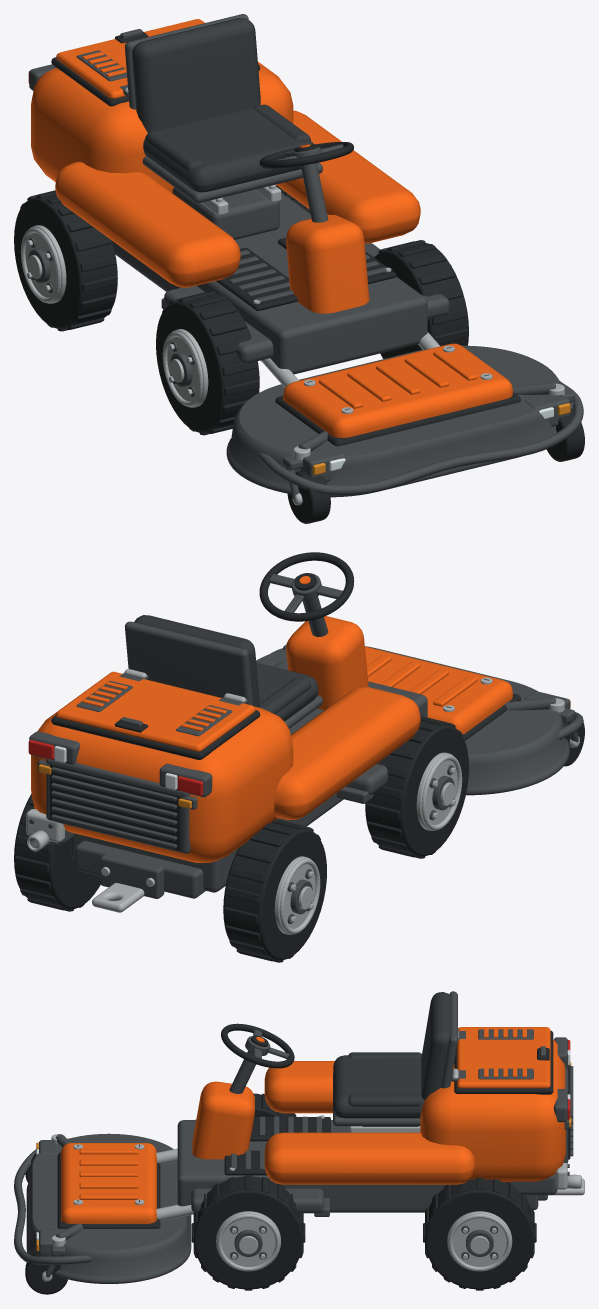
Rendered from ride_on_mower.glb.
3 views of the same model, one above another, from view 1: azimuth 30°, elevation 25°; view 2: azimuth 150°, elevation 25°; view 3: azimuth 270°, elevation 25° (orthographic). The views are drawn at different scales.
Visible parts, largest first — view 1: Cutting deck, Ladder frame, Wheel arch, Seat back, Belt guard, Engine bonnet, Seat cushion, Wheel arch.001, Column cover, All terrain tire, All terrain tire.001, Front deck guard (+21 smaller); view 2: Engine bonnet, Wheel arch, Cutting deck, Bonnet lid, All terrain tire.001, Seat back shell, All terrain tire, Column cover, Belt guard, Recessed cooling grille, All terrain tire.003, Ladder frame (+26 smaller); view 3: Engine bonnet, Cutting deck, Wheel arch.001, All terrain tire.002, All terrain tire.003, Ladder frame, Belt guard, Seat cushion, Bonnet lid, Column cover, Wheel arch, Seat back (+27 smaller).
Part boxes in pixels (box(x1,y1,x2,y2)): Cutting deck: box(226, 345, 560, 497); Ladder frame: box(112, 193, 427, 374); Wheel arch: box(55, 161, 240, 287); Seat back: box(132, 18, 260, 132); Belt guard: box(283, 343, 512, 437); Engine bonnet: box(31, 62, 293, 192); Seat cushion: box(143, 107, 313, 192); Wheel arch.001: box(276, 110, 420, 243); Column cover: box(286, 215, 369, 313); All terrain tire: box(156, 294, 259, 432); All terrain tire.001: box(14, 194, 117, 329); Front deck guard: box(257, 381, 583, 495); Engine bonnet: box(31, 706, 293, 862); Wheel arch: box(274, 687, 420, 819); Cutting deck: box(256, 646, 569, 795); Bonnet lid: box(56, 671, 255, 751); All terrain tire.001: box(223, 822, 326, 960); Seat back shell: box(125, 621, 253, 705); All terrain tire: box(365, 720, 468, 856); Column cover: box(286, 616, 368, 709); Belt guard: box(365, 646, 512, 734); Recessed cooling grille: box(50, 763, 181, 850); All terrain tire.003: box(14, 794, 100, 909); Ladder frame: box(71, 661, 427, 892); Engine bonnet: box(420, 1039, 565, 1182); Cutting deck: box(26, 1133, 191, 1283); Wheel arch.001: box(264, 1132, 475, 1184); All terrain tire.002: box(193, 1176, 303, 1289); All terrain tire.003: box(425, 1179, 534, 1289); Ladder frame: box(177, 1120, 525, 1212); Belt guard: box(61, 1143, 156, 1223); Seat cushion: box(333, 1055, 424, 1118); Bonnet lid: box(457, 1027, 550, 1088); Column cover: box(192, 1081, 254, 1159); Wheel arch: box(264, 1061, 334, 1113); Seat back: box(421, 992, 450, 1099).
Bounding box in the file's own units: 1.3 × 1.11 × 2.49.
